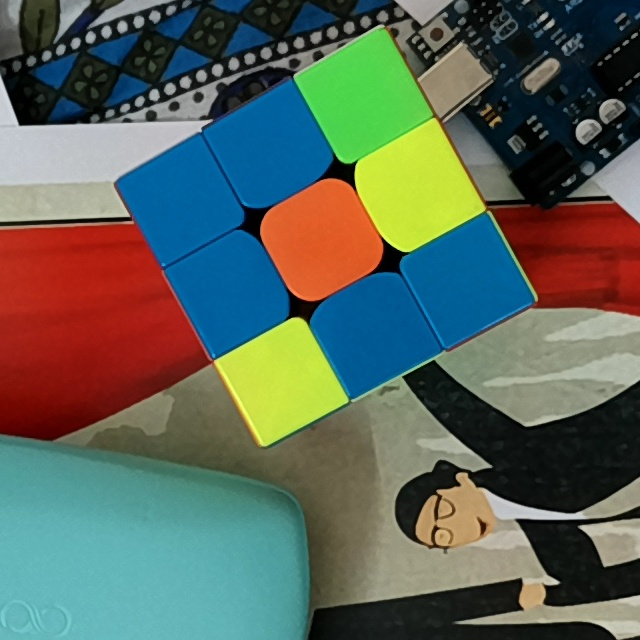tile: (331, 58, 403, 132), (284, 203, 358, 274), (195, 253, 266, 327), (246, 344, 317, 418), (337, 294, 409, 366), (380, 150, 452, 221), (437, 241, 504, 315), (145, 167, 214, 237), (238, 113, 307, 183)
